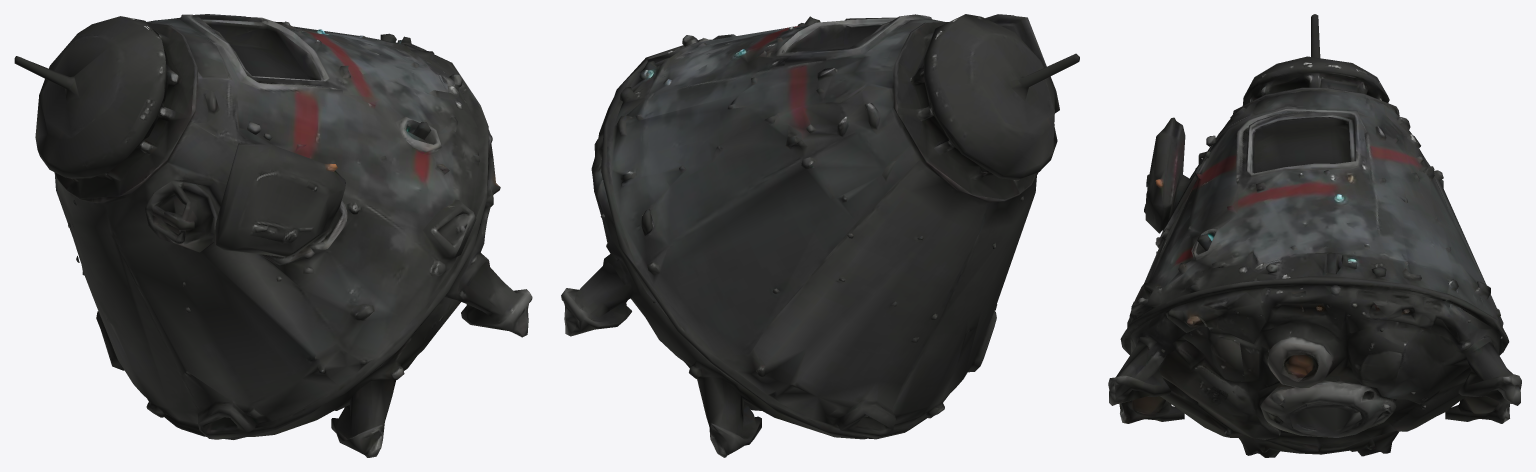
File: landing_pod.glb
3 renders of one model, left to right at view 1: azimuth 30°, elevation 25°; view 2: azimuth 150°, elevation 25°; view 3: azimuth 270°, elevation 25°, orthographic. The views are drawn at different scales.
Visible parts, largest first — view 1: tripo_node_b20f8a55-1ce6-4a4e-8e56-070ed0bd57ba; view 2: tripo_node_b20f8a55-1ce6-4a4e-8e56-070ed0bd57ba; view 3: tripo_node_b20f8a55-1ce6-4a4e-8e56-070ed0bd57ba.
Part boxes in pixels (box(x1,y1,x2,y2)): tripo_node_b20f8a55-1ce6-4a4e-8e56-070ed0bd57ba: box(14, 14, 532, 457); tripo_node_b20f8a55-1ce6-4a4e-8e56-070ed0bd57ba: box(561, 14, 1079, 457); tripo_node_b20f8a55-1ce6-4a4e-8e56-070ed0bd57ba: box(1108, 14, 1521, 457).
Size of the model in its own units: 0.998 by 0.8806 by 0.9746.
1 material, 1 textured.
